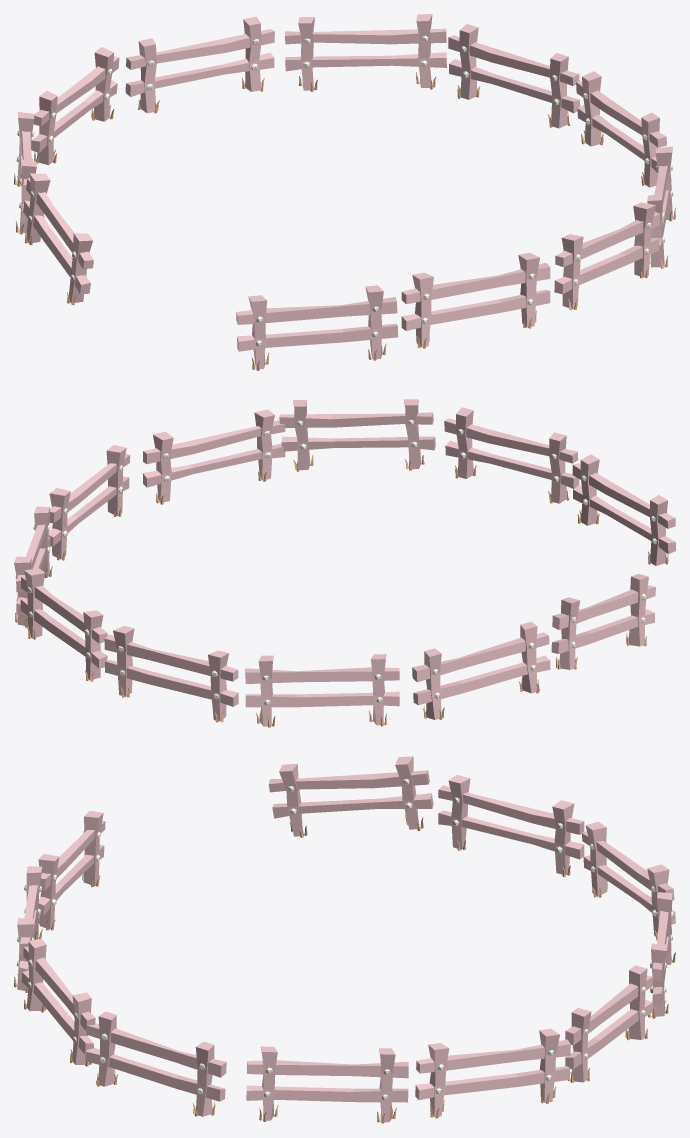
Rendered from fence-pink.gltf.
3 views of the same model, one above another, from view 1: azimuth 30°, elevation 25°; view 2: azimuth 150°, elevation 25°; view 3: azimuth 270°, elevation 25° (orthographic). The views are drawn at different scales.
Visible parts, largest first — view 1: Cube.026, Cube.025, Cube.028, Cube.019, Cube.022, Cube.024, Cube.018, Cube.021, Cube.027, Cube.023, Cube.020; view 2: Cube.018, Cube.020, Cube.019, Cube.024, Cube.023, Cube.025, Cube.027, Cube.026, Cube.028, Cube.021, Cube.022; view 3: Cube.021, Cube.022, Cube.023, Cube.027, Cube.020, Cube.028, Cube.024, Cube.018, Cube.026, Cube.019, Cube.025.
Boxes of the visible parts, bbox=[...] form: Cube.026: bbox=[236, 285, 398, 370]; Cube.025: bbox=[401, 252, 550, 348]; Cube.028: bbox=[285, 14, 446, 91]; Cube.019: bbox=[125, 16, 274, 113]; Cube.022: bbox=[448, 24, 580, 128]; Cube.024: bbox=[554, 202, 660, 309]; Cube.018: bbox=[31, 47, 119, 165]; Cube.021: bbox=[576, 71, 666, 187]; Cube.027: bbox=[23, 173, 93, 305]; Cube.023: bbox=[647, 146, 675, 268]; Cube.020: bbox=[14, 112, 36, 234]; Cube.018: bbox=[245, 654, 399, 727]; Cube.020: bbox=[412, 621, 550, 719]; Cube.019: bbox=[104, 626, 238, 722]; Cube.024: bbox=[279, 399, 435, 471]; Cube.023: bbox=[143, 409, 285, 504]; Cube.025: bbox=[444, 407, 579, 503]; Cube.027: bbox=[551, 574, 655, 669]; Cube.026: bbox=[572, 454, 675, 565]; Cube.028: bbox=[20, 568, 107, 681]; Cube.021: bbox=[48, 445, 130, 560]; Cube.022: bbox=[14, 506, 52, 627]; Cube.021: bbox=[246, 1046, 408, 1123]; Cube.022: bbox=[415, 1028, 570, 1118]; Cube.023: bbox=[85, 1011, 226, 1116]; Cube.027: bbox=[268, 756, 433, 837]; Cube.020: bbox=[438, 775, 584, 876]; Cube.028: bbox=[565, 965, 652, 1082]; Cube.024: bbox=[21, 938, 95, 1066]; Cube.018: bbox=[582, 821, 675, 940]; Cube.026: bbox=[38, 810, 105, 930]; Cube.019: bbox=[648, 892, 675, 1018]; Cube.025: bbox=[14, 866, 42, 992].
Bounding box in the file's own units: 11.73 × 1.89 × 11.56.
